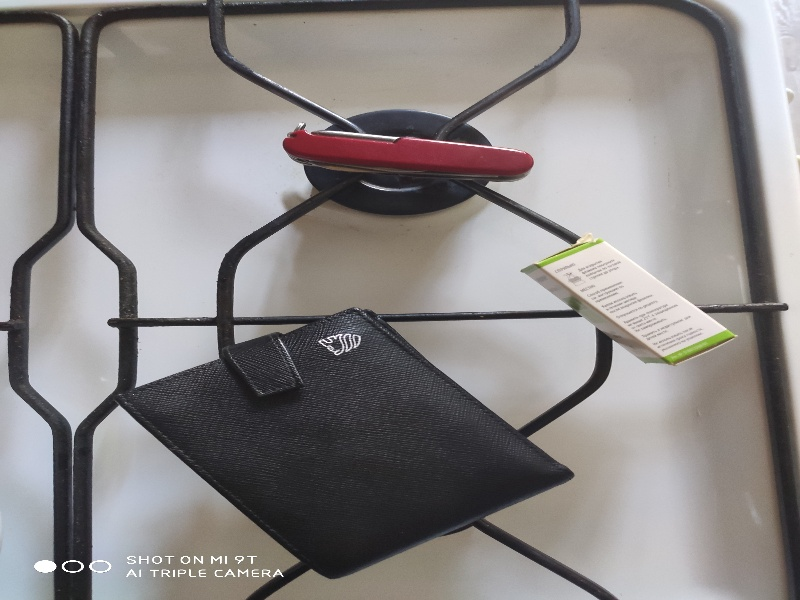ifrin: (521, 231, 735, 375)
knife: (271, 125, 531, 188)
wallet: (115, 305, 575, 578)
